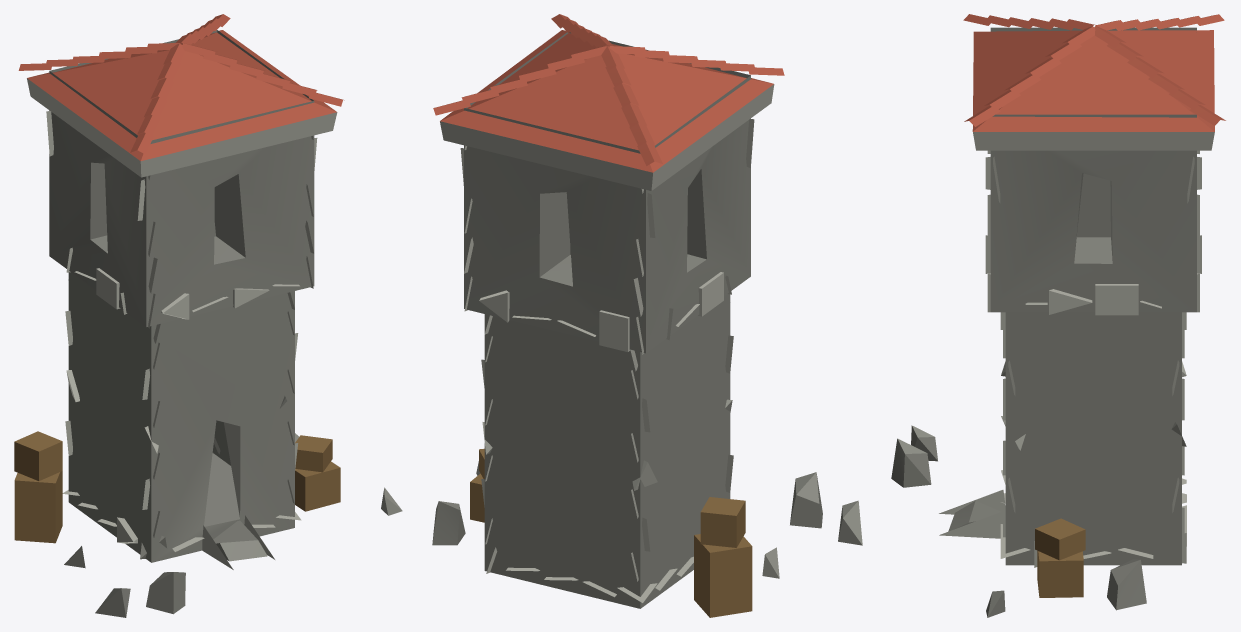
Rendered from LOD2_WatchTower.fbx.
The picture shows the model from 3 angles, left to right: view 1: azimuth 30°, elevation 25°; view 2: azimuth 150°, elevation 25°; view 3: azimuth 270°, elevation 25°; orthographic projection. The views are drawn at different scales.
Parts seen in each view (by area): view 1: WatchTower_SecondAge_Level1; view 2: WatchTower_SecondAge_Level1; view 3: WatchTower_SecondAge_Level1.
Part boxes in pixels (x1,y1,x2,y2): WatchTower_SecondAge_Level1: (14, 14, 402, 617); WatchTower_SecondAge_Level1: (432, 14, 862, 617); WatchTower_SecondAge_Level1: (891, 14, 1225, 617).
Bounding box in the file's own units: 86.85 × 119 × 71.38.
